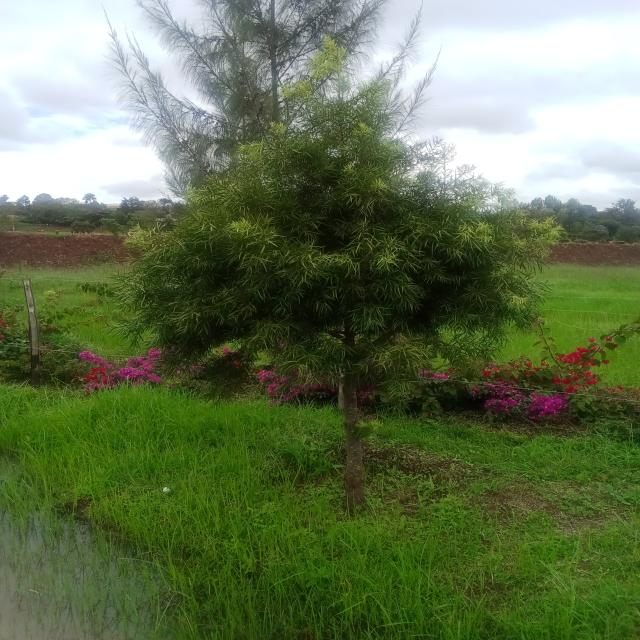Podocarpus falcatus: (128, 75, 575, 513)
